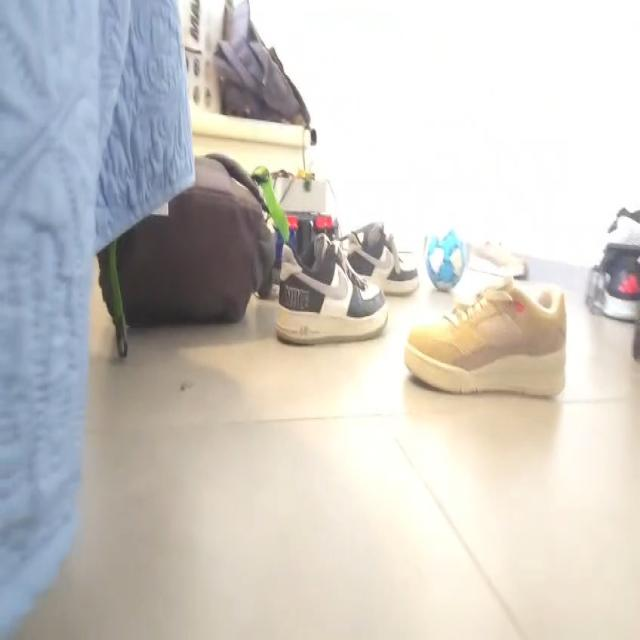Robot: (269, 166, 340, 270)
